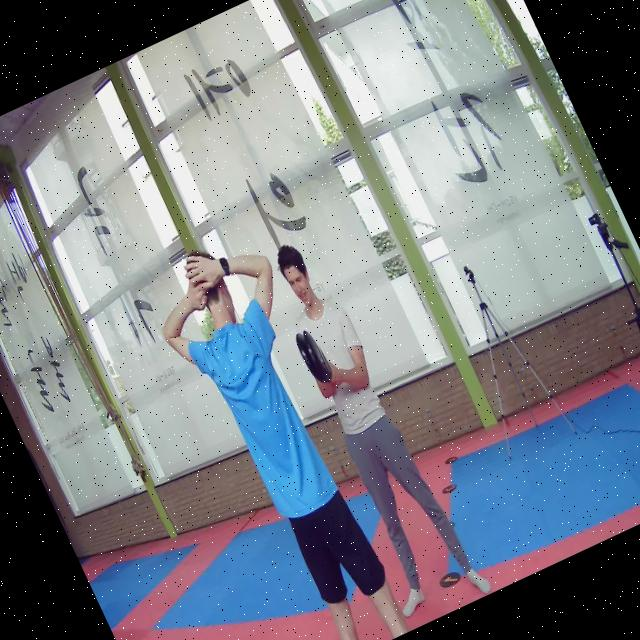paddle: (296, 330, 332, 384)
